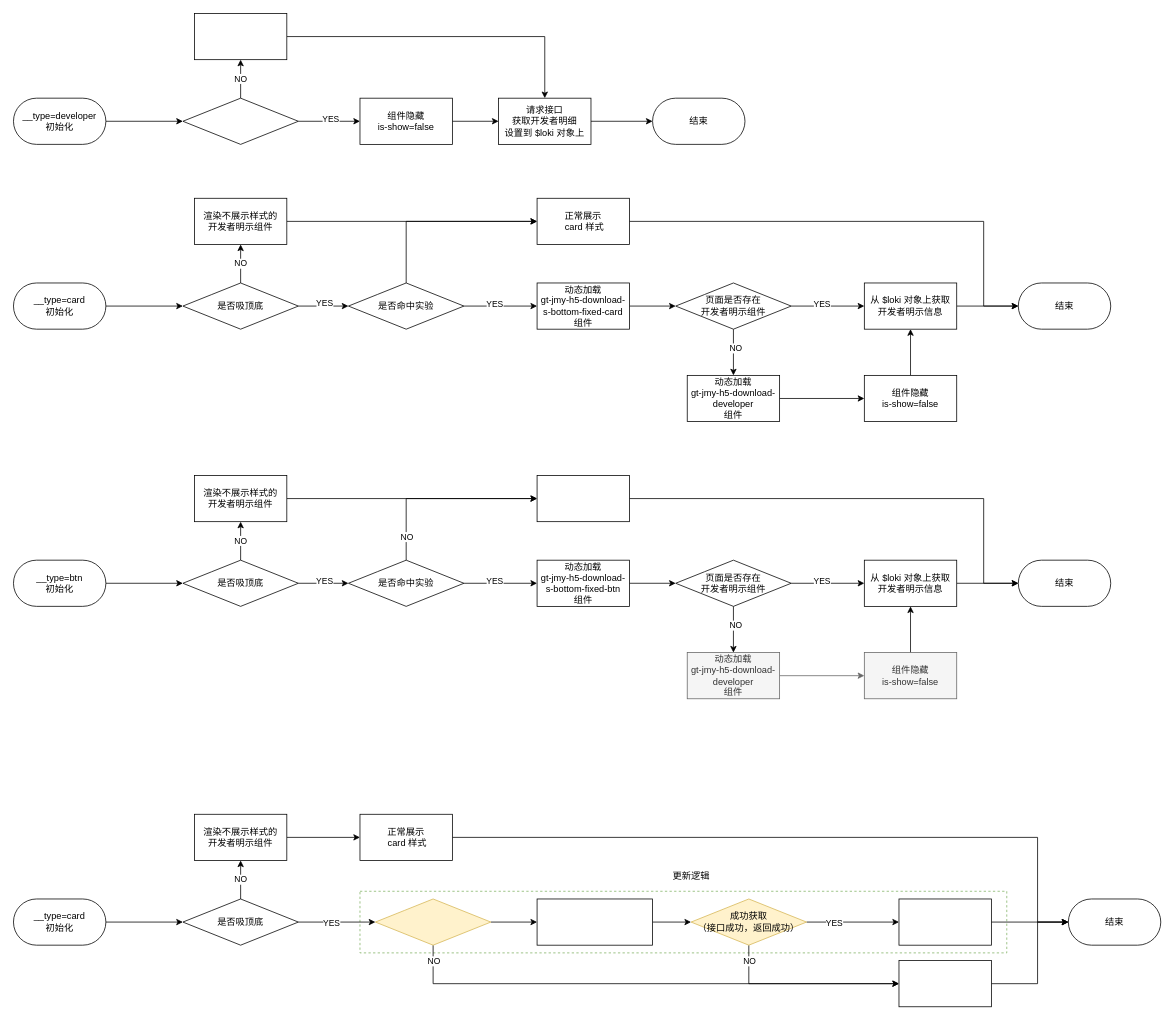
Some shapes in this 1174 by 1020 pixel diagram are drawn without their labels. The shapes that lost their labels are listed below. From the top down, each one's box as (x1, y1, x2, y2) in pixels, then its label:
(194, 13, 287, 60): 正常展示 is-show=true
(182, 97, 298, 144): 页面是否存在 包含开发者明示 的下载组件
(536, 475, 629, 522): 正常展示 btn 样式
(375, 898, 491, 945): 是否命中策略试验
(536, 898, 653, 945): 请求接口 获取策略下发信息
(898, 898, 991, 945): 展现新吸底样式
(898, 960, 991, 1007): 展现老吸底样式
